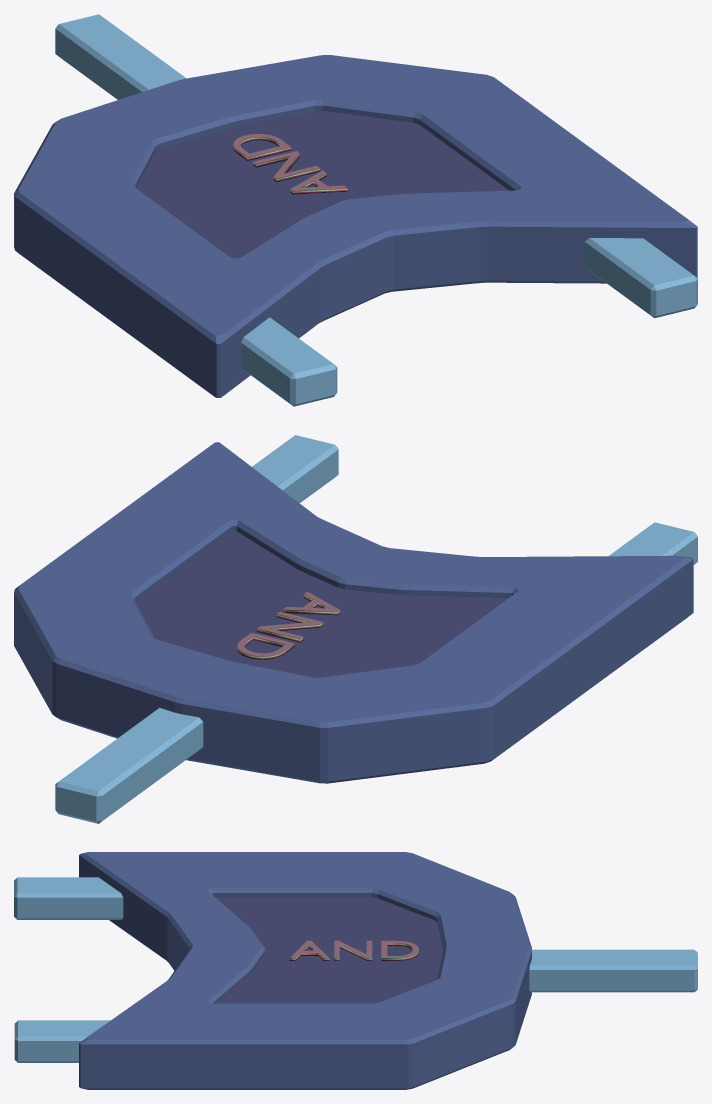
File: Assets_Gates.fbx_AND.fbx
3 renders of one model, top to bottom at view 1: azimuth 30°, elevation 25°; view 2: azimuth 150°, elevation 25°; view 3: azimuth 270°, elevation 25°, orthographic. The views are drawn at different scales.
Visible parts, largest first — view 1: AND.002, Text.007; view 2: AND.002, Text.007; view 3: AND.002, Text.007.
Boxes of the visible parts, x1,y1,x2,y2 form: AND.002: [14, 14, 697, 406]; Text.007: [233, 134, 347, 194]; AND.002: [14, 435, 697, 823]; Text.007: [237, 591, 340, 659]; AND.002: [14, 852, 697, 1089]; Text.007: [289, 940, 418, 960].
Bounding box in the file's own units: 264 × 32.28 × 400.
